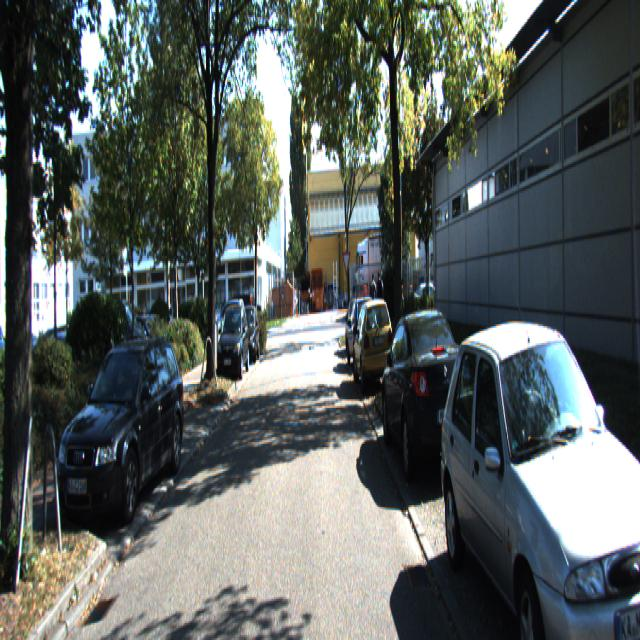Car: (436, 301, 640, 638), (57, 332, 186, 540), (380, 302, 478, 492), (351, 293, 396, 396), (215, 302, 251, 382), (345, 294, 378, 374), (236, 302, 260, 364)
